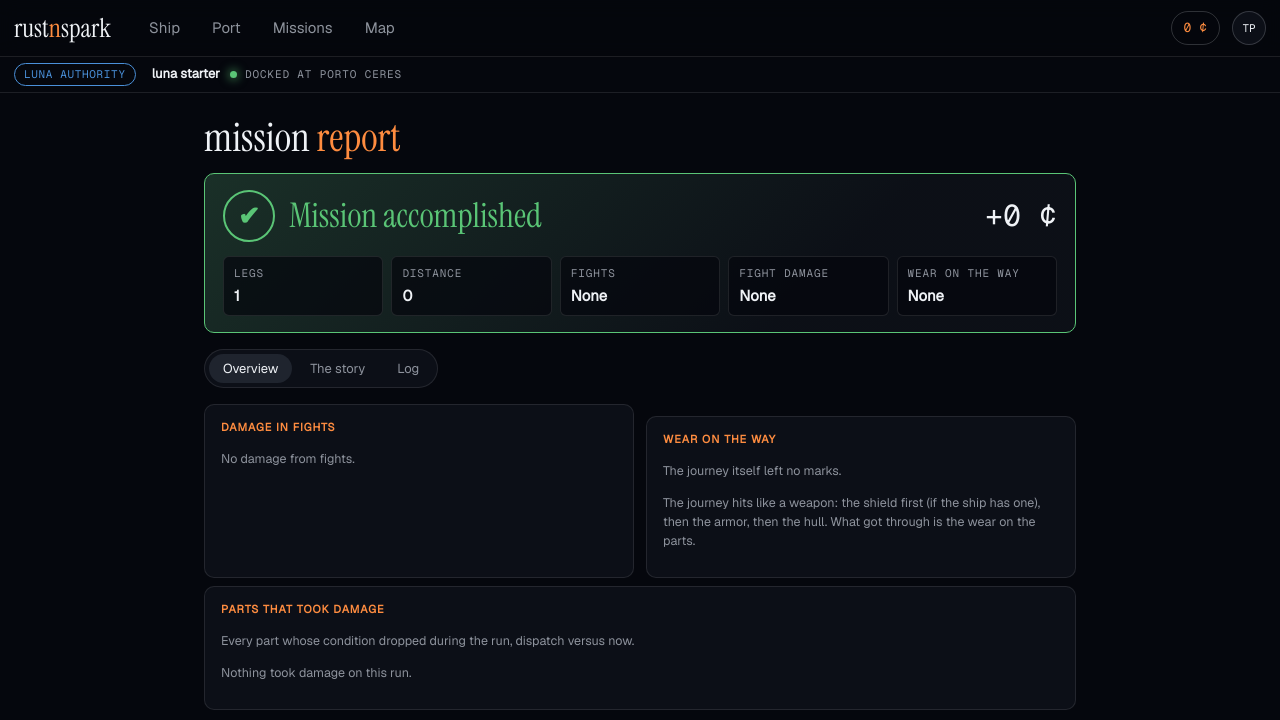
Test case: report (S10.8) › still opens a popup for a reference that has left the catalog (404)
Step 1. Click the tab "The story" → [338, 369], box top-left (296, 354), bottom-right (379, 383)
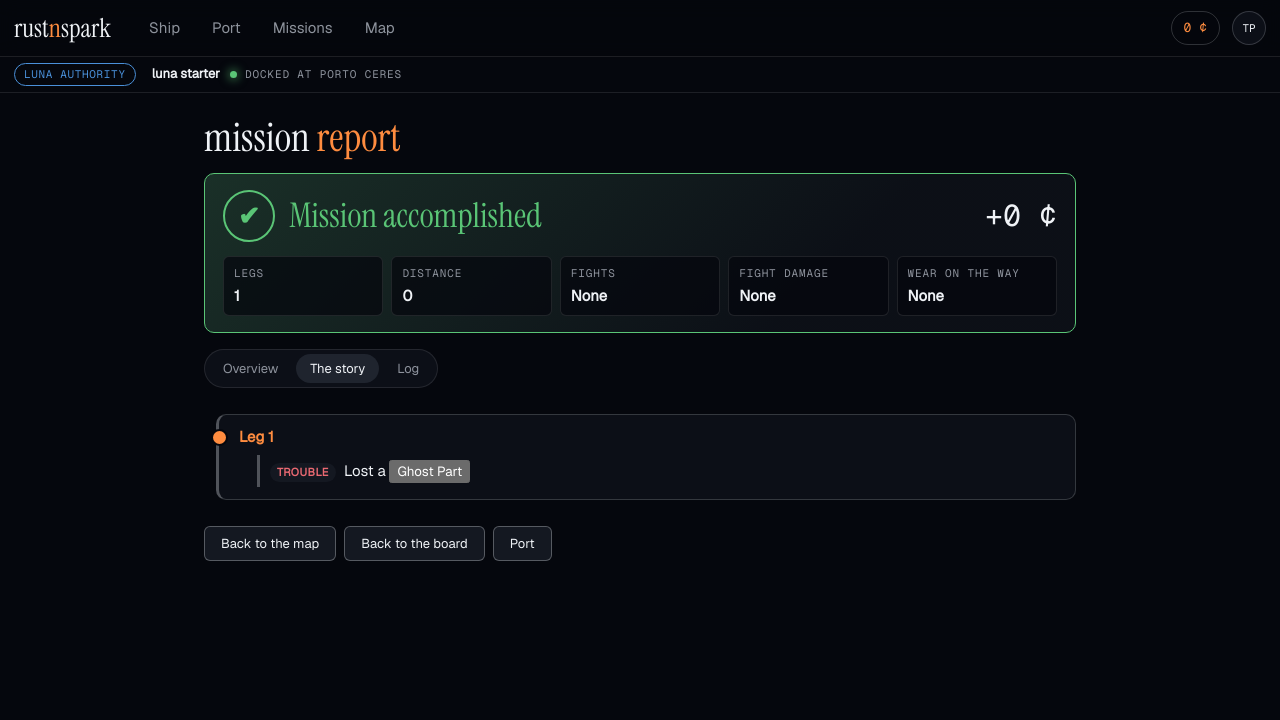
Step 2. Click the button "Ghost Part" → [430, 471], box top-left (389, 460), bottom-right (470, 482)
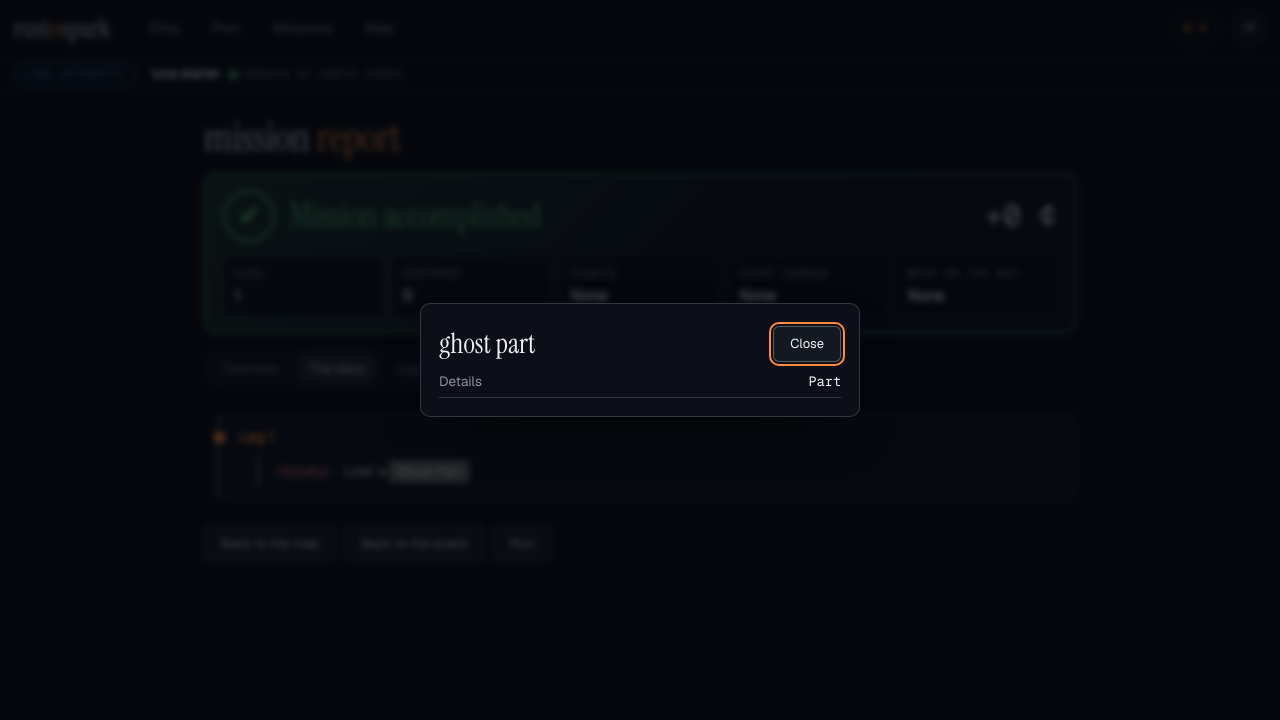
Expected: the dialog "Ghost Part" does not show "Loading", top-left (420, 303), bottom-right (860, 417)
Expected: the dialog "Ghost Part" is shown, top-left (809, 372), bottom-right (841, 390)
